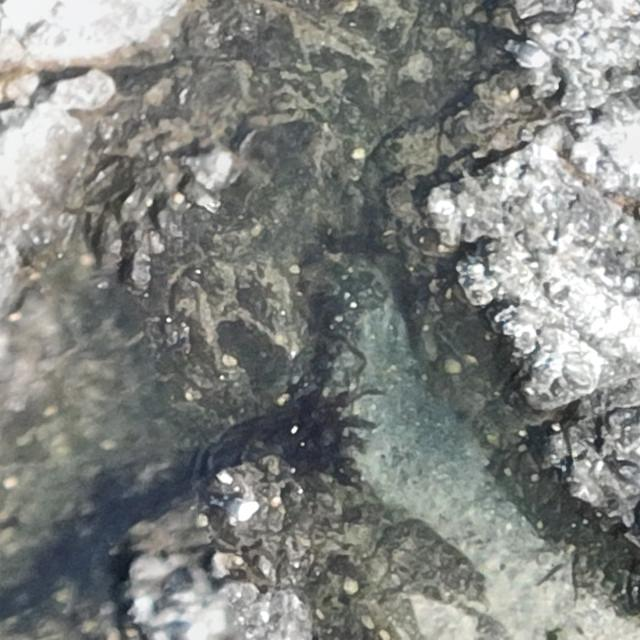umineko: (185, 150, 235, 177), (222, 499, 262, 521), (507, 42, 543, 64)
